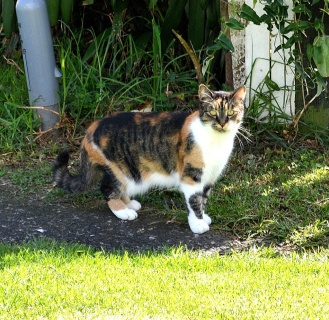Cat: (48, 83, 254, 235)
